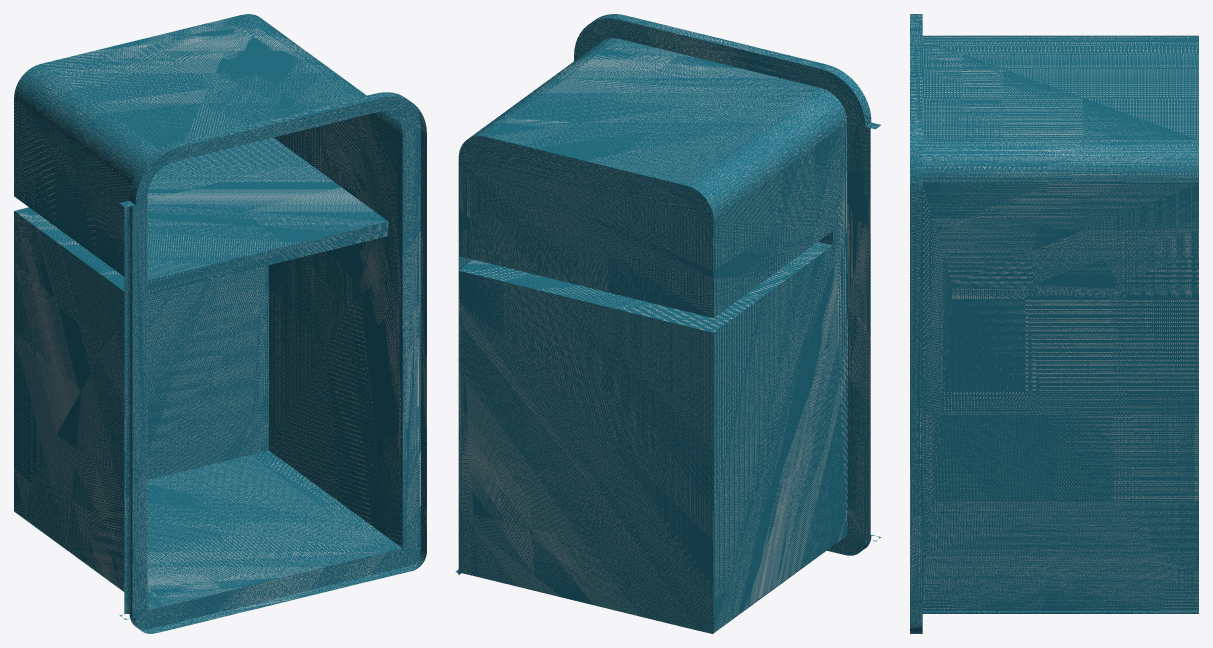
The model's file is original-11.obj.
3 renders of one model, left to right at view 1: azimuth 30°, elevation 25°; view 2: azimuth 150°, elevation 25°; view 3: azimuth 270°, elevation 25°, orthographic. The views are drawn at different scales.
Visible parts, largest first — view 1: mesh14/mesh14-geometry/material_2/component_2#mesh14-geometry; view 2: mesh14/mesh14-geometry/material_2/component_2#mesh14-geometry; view 3: mesh14/mesh14-geometry/material_2/component_2#mesh14-geometry.
Boxes of the visible parts, <box> form: mesh14/mesh14-geometry/material_2/component_2#mesh14-geometry: <box>14,14,426,633</box>; mesh14/mesh14-geometry/material_2/component_2#mesh14-geometry: <box>455,14,881,633</box>; mesh14/mesh14-geometry/material_2/component_2#mesh14-geometry: <box>910,14,1198,633</box>.
Size of the model in its own units: 0.8326 by 1.27 by 0.6681.
